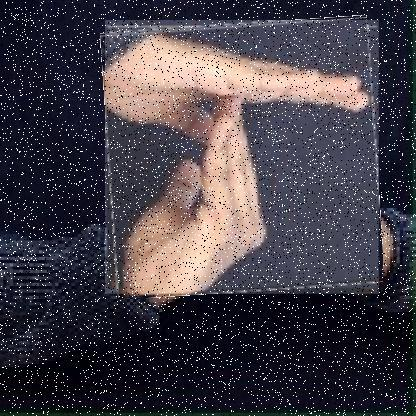Z: (105, 20, 380, 295)
